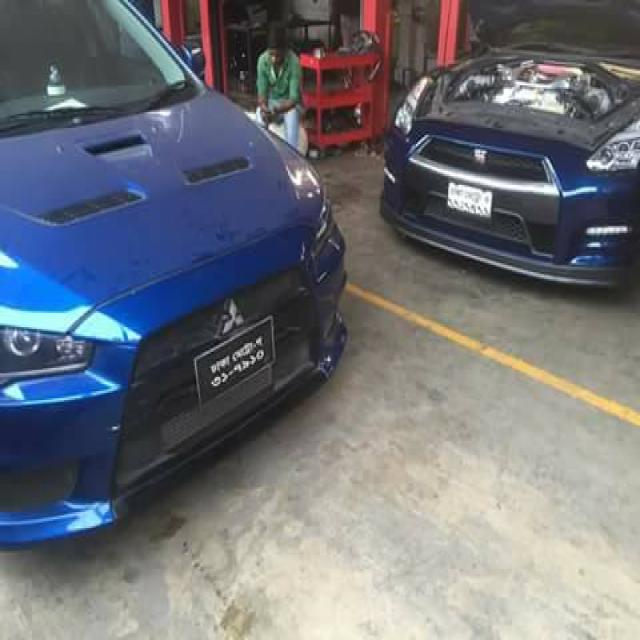numberplate: (192, 311, 276, 411), (444, 180, 493, 218)
